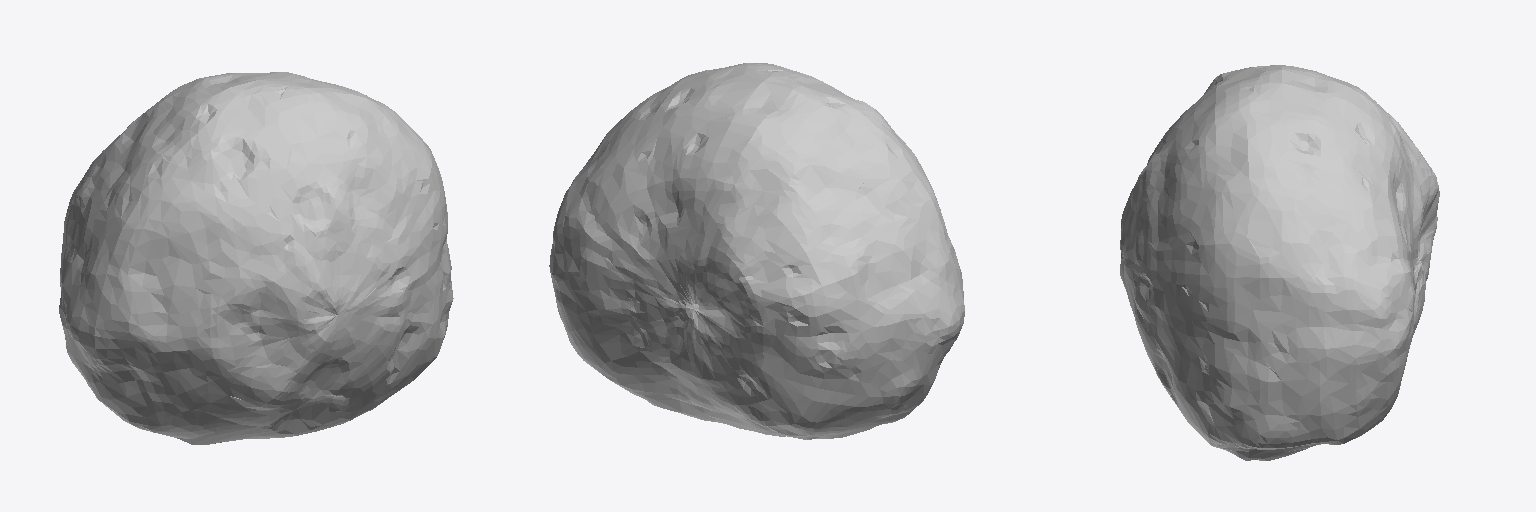
File: phobos-scaled-00002-reduced.obj
3 renders of one model, left to right at view 1: azimuth 30°, elevation 25°; view 2: azimuth 150°, elevation 25°; view 3: azimuth 270°, elevation 25°, orthographic.
Size of the model in its own units: 0.0005 by 0.0005 by 0.0004.